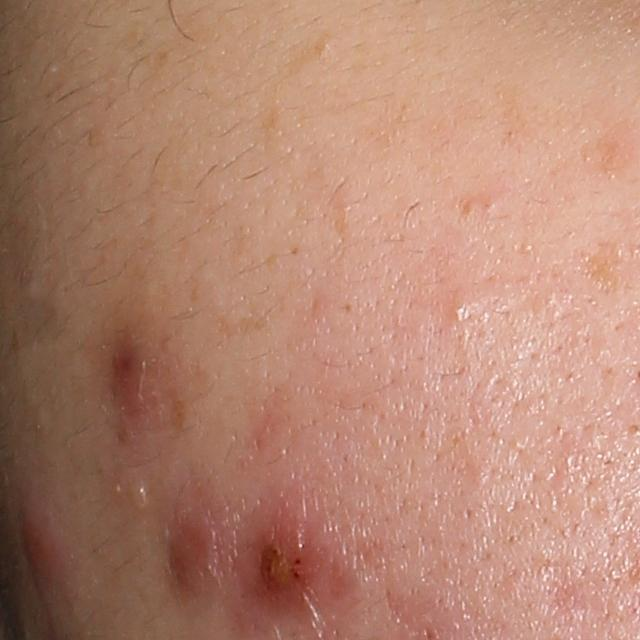comedo: (127, 480, 153, 514), (450, 298, 473, 322)
papule: (165, 507, 229, 594), (251, 519, 317, 601), (112, 346, 172, 434), (19, 504, 65, 570)
